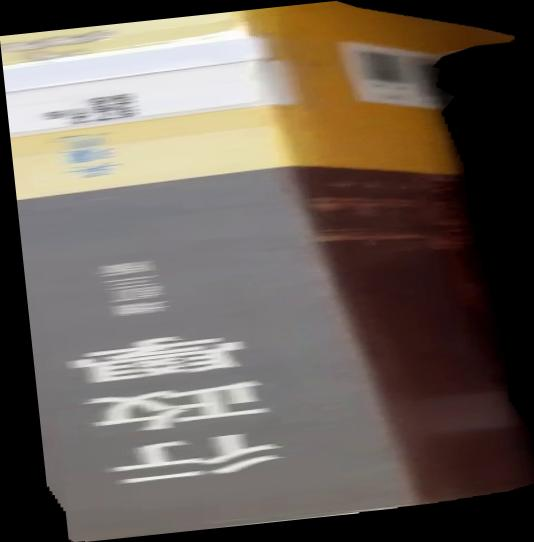reverse: (1, 1, 534, 542)
